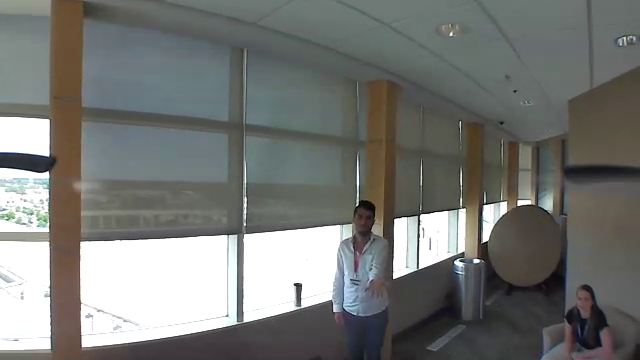land: (363, 274, 394, 302)
